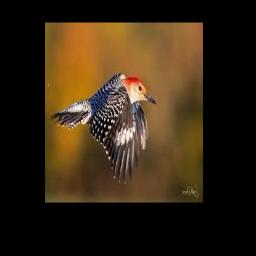Woodpecker: (50, 72, 157, 184)
